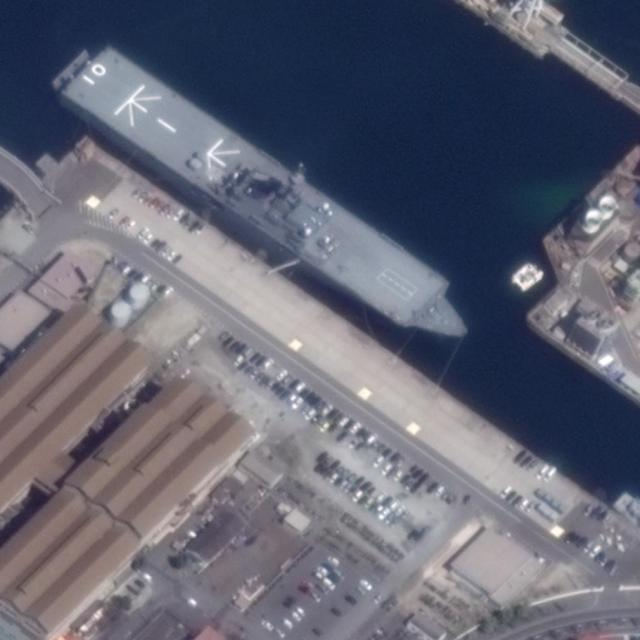Landing: (46, 30, 488, 362)
